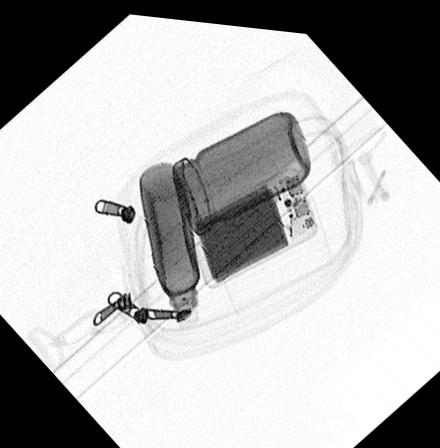Powerbank: (185, 158, 320, 285)
